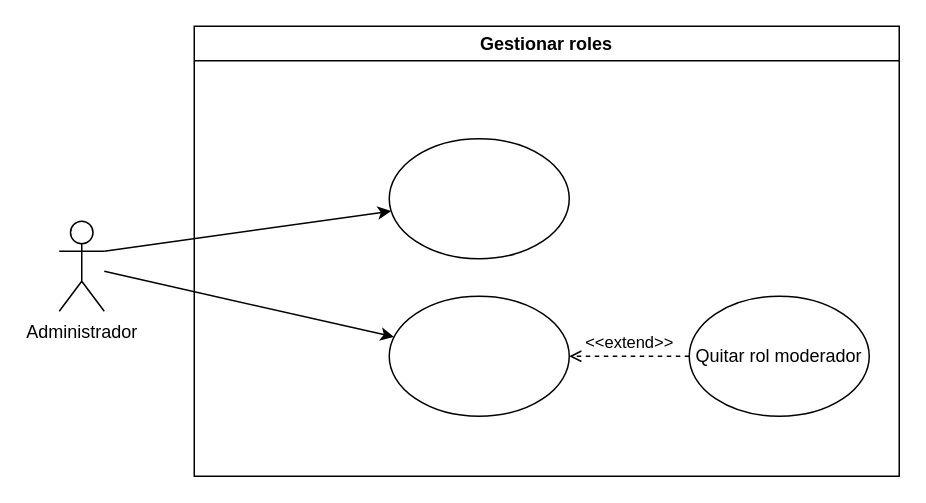
The diagram is 926 pixels wide and 503 high, and some of its shapes have lost their labels. Each missing label, with the box of its shape:
Asignar rol moderador: (388, 295, 569, 416)
Ver lista de usuarios registrados: (388, 137, 569, 259)
